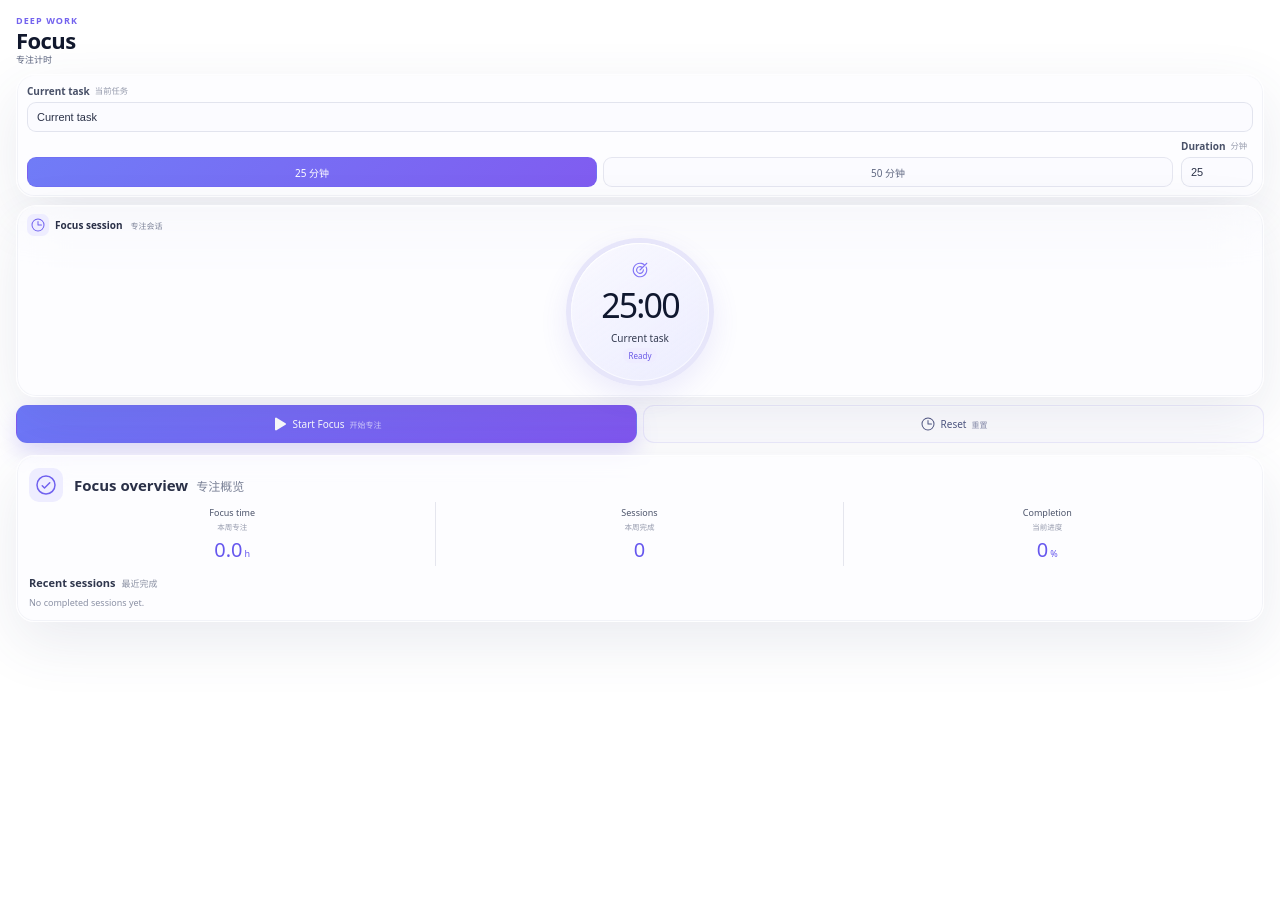
Test: FocusPage › records a natural completion without reflection when skipped
The width and height of the screenshot is (1280, 900).
Replace the text in the number field labelled "Duration 分钟" with "1" at (1217, 172), box [1181,157,1253,187]
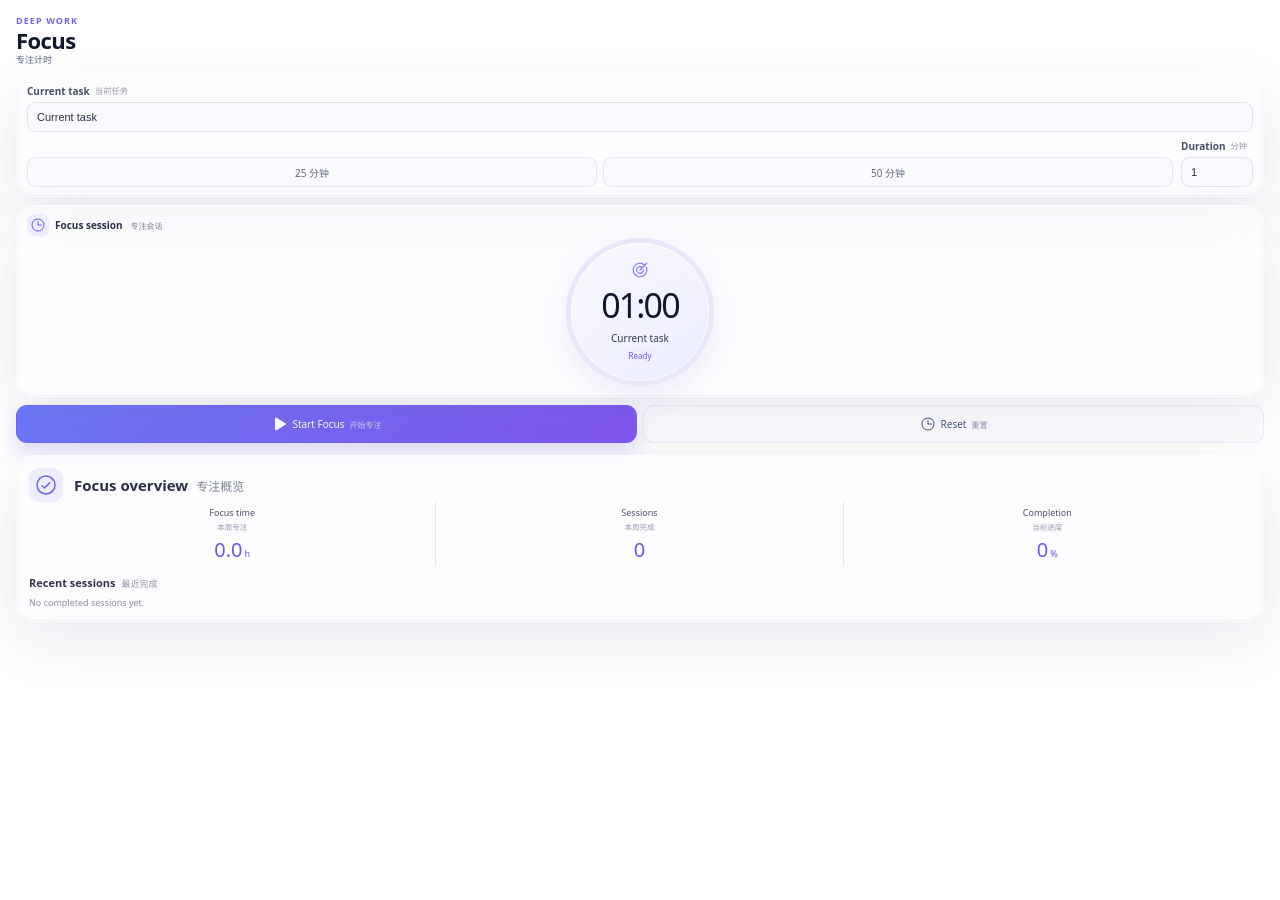
Click the button "Start Focus 开始专注" at (326, 424), box [16,405,637,443]
Wait 60000 ms
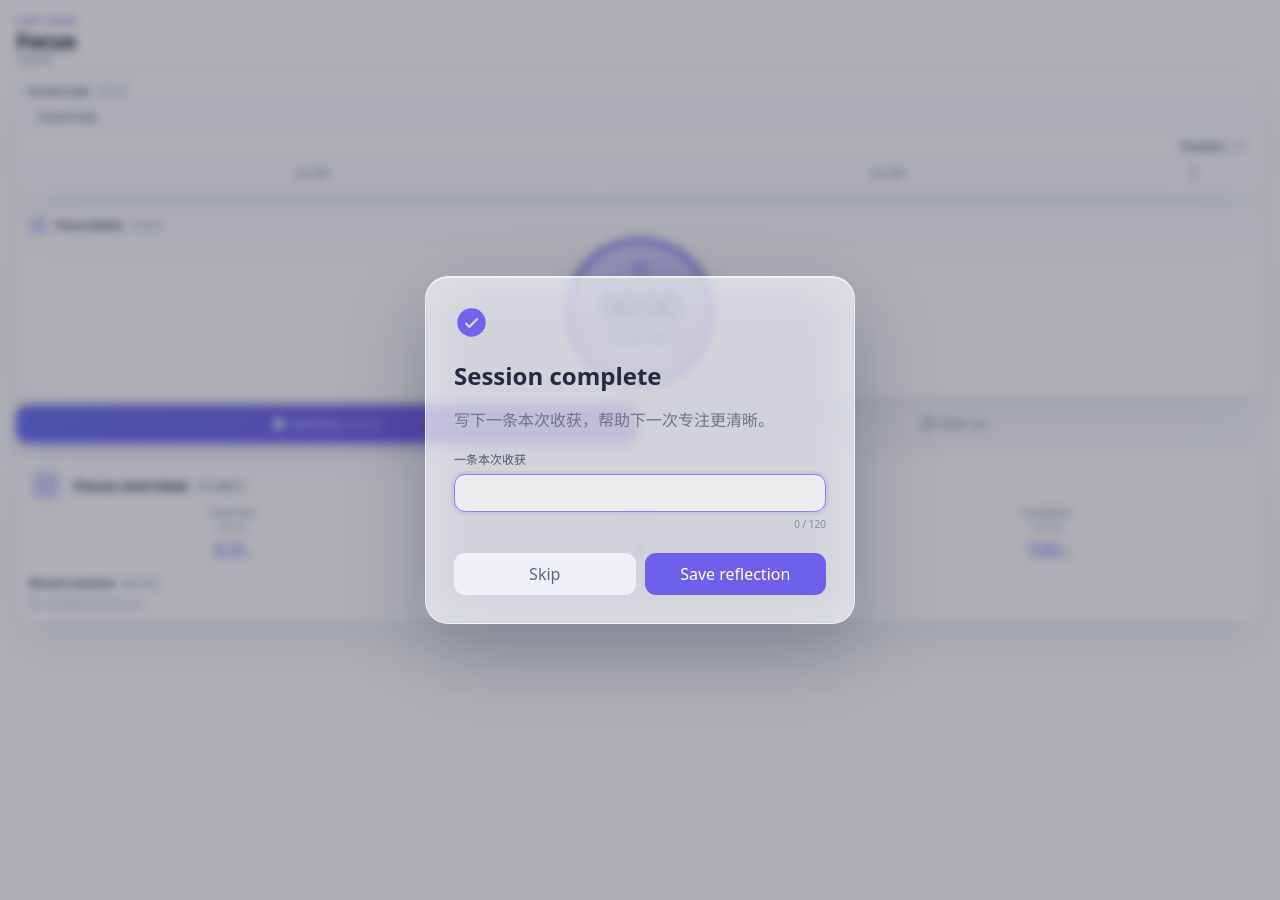
Click the button "Skip" at (545, 574), box [454,553,636,595]
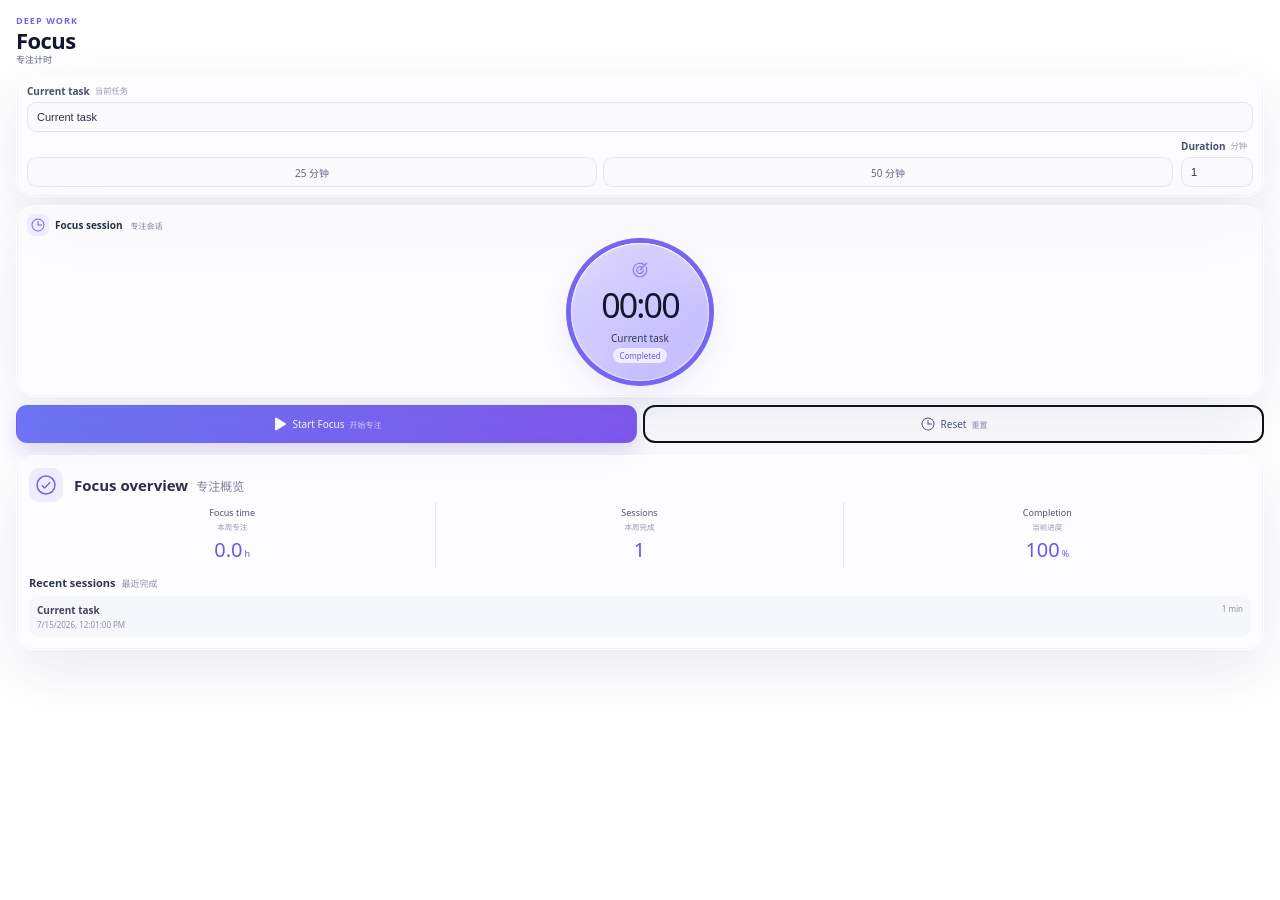
Check: the button "Reset 重置" is enabled, box [643,405,1264,443]
